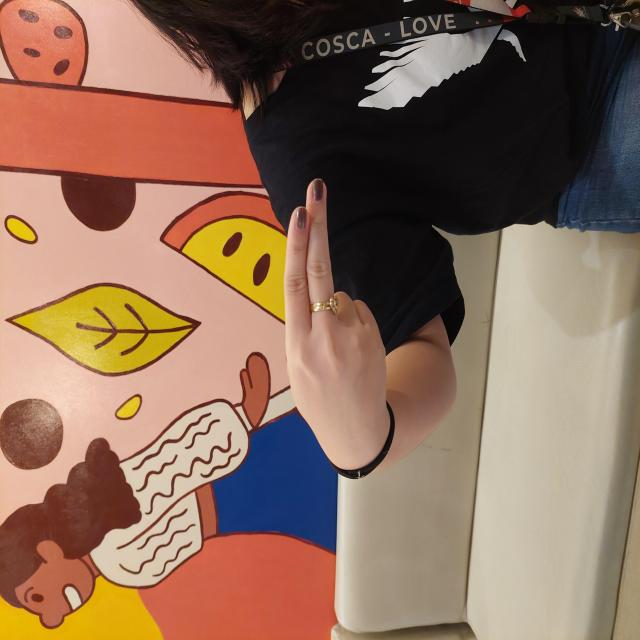H: (164, 282, 466, 389)
